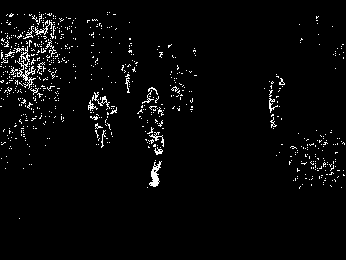person: (136, 85, 166, 189), (86, 90, 116, 149), (268, 69, 286, 131)
